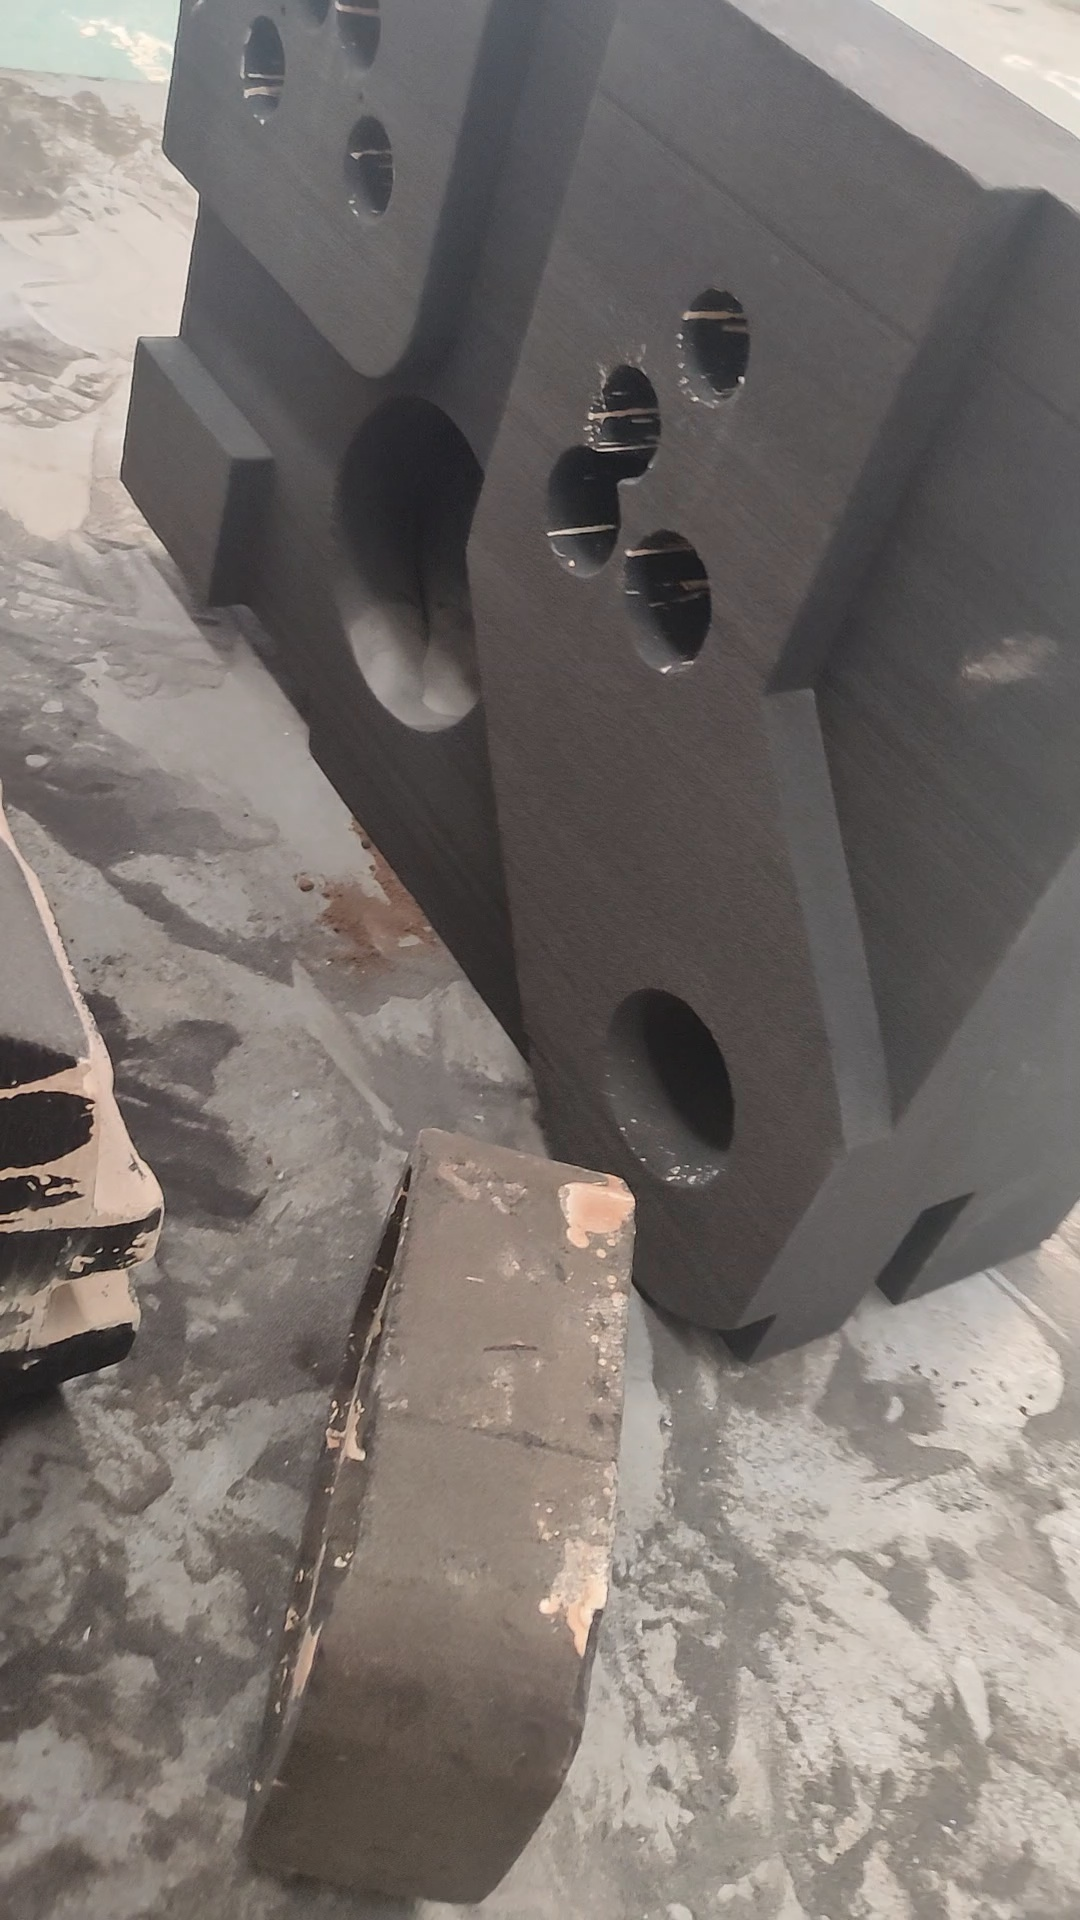pouring hole: (601, 988, 735, 1187)
